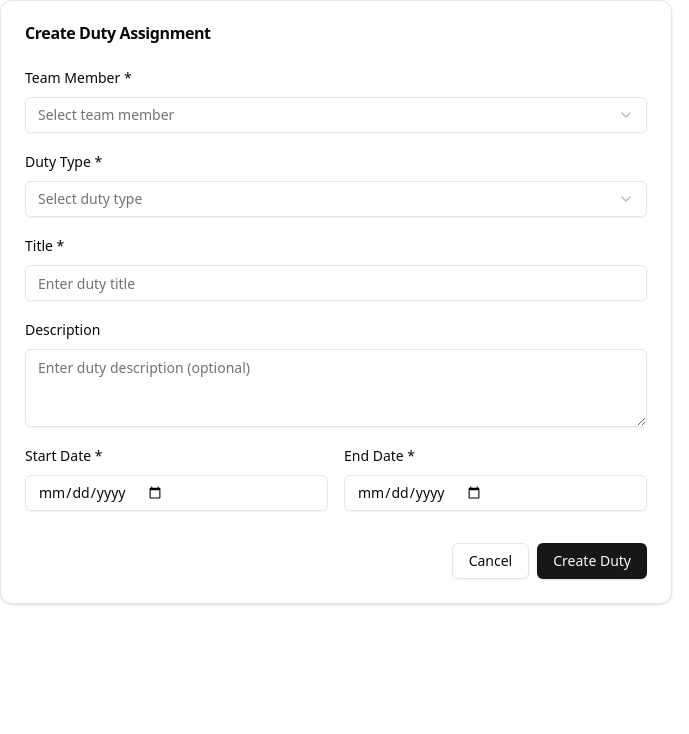
Test: DutyForm › validates date range
The width and height of the screenshot is (689, 734).
// Fill in form with invalid date range
Type "2024-01-20" into the date field labelled "Start Date *" at (176, 493), box [25,475,328,511]
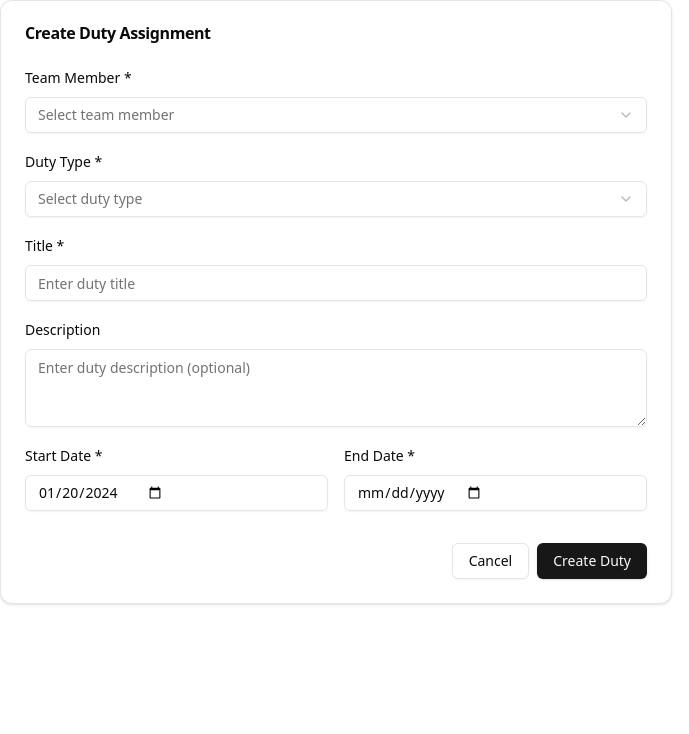
Type "2024-01-15" into the date field labelled "End Date *" at (496, 493), box [344,475,647,511]
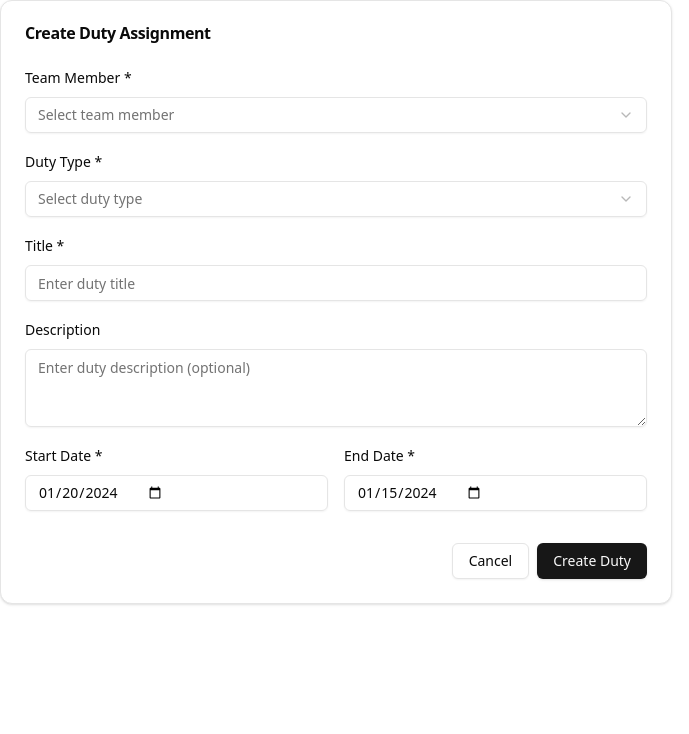
Click the button "Create Duty" at (592, 561), box [537,543,647,579]
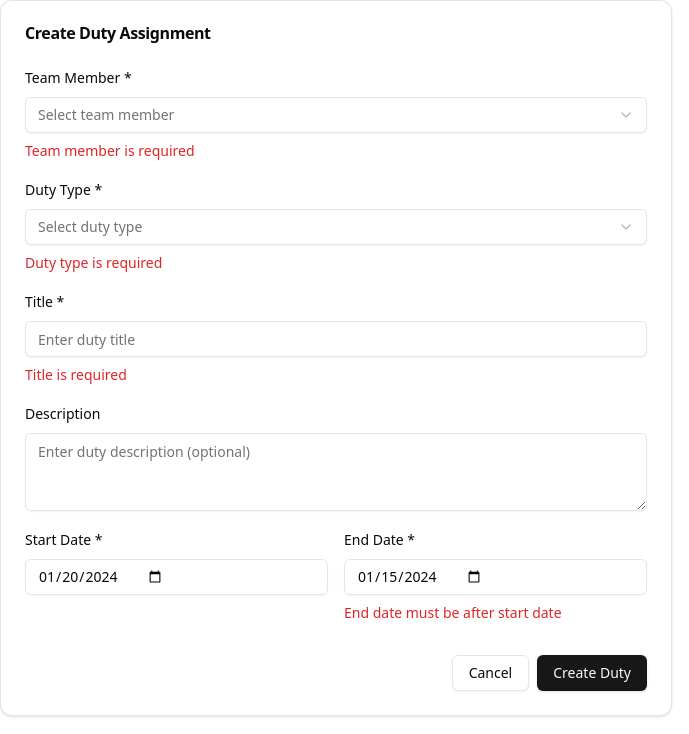
Result: the text "End date must be after start date" is shown at [344,603,562,622]
